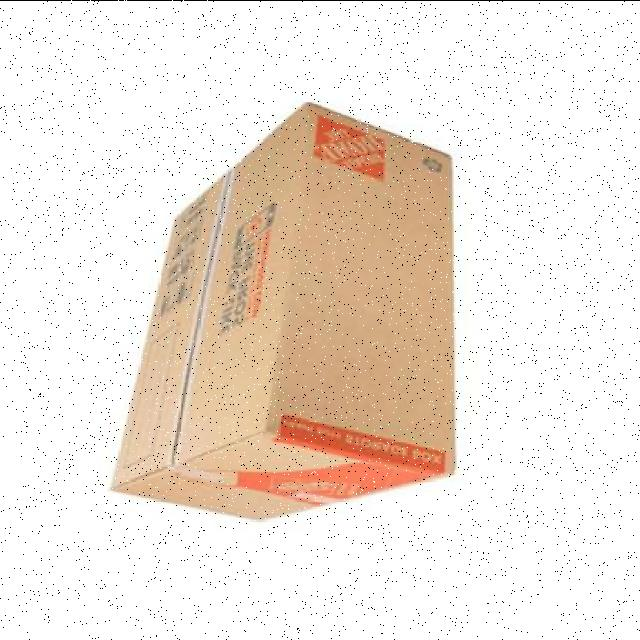normal: (101, 83, 472, 531)
